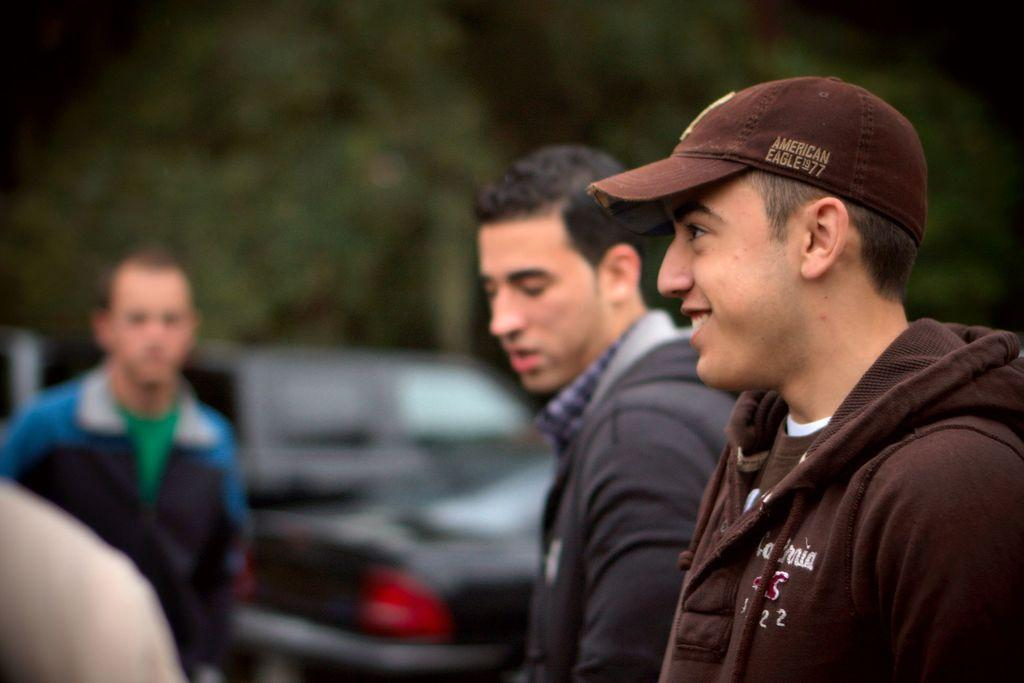Hat: (589, 77, 926, 252)
